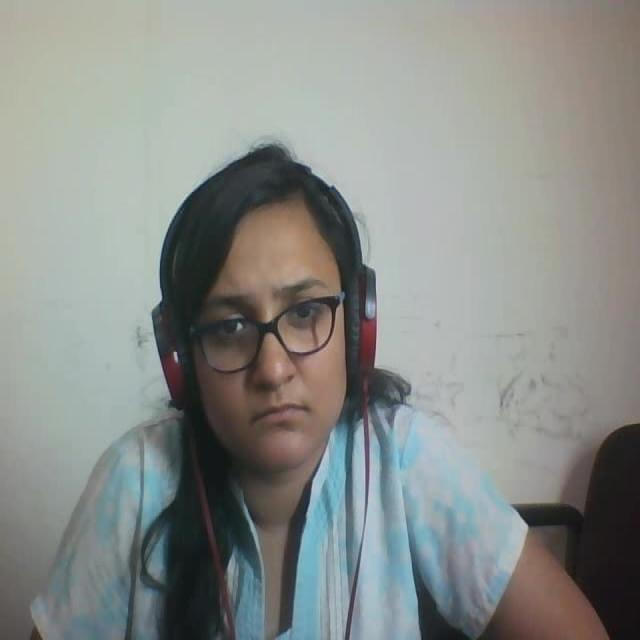Engaged: (150, 130, 403, 508)
